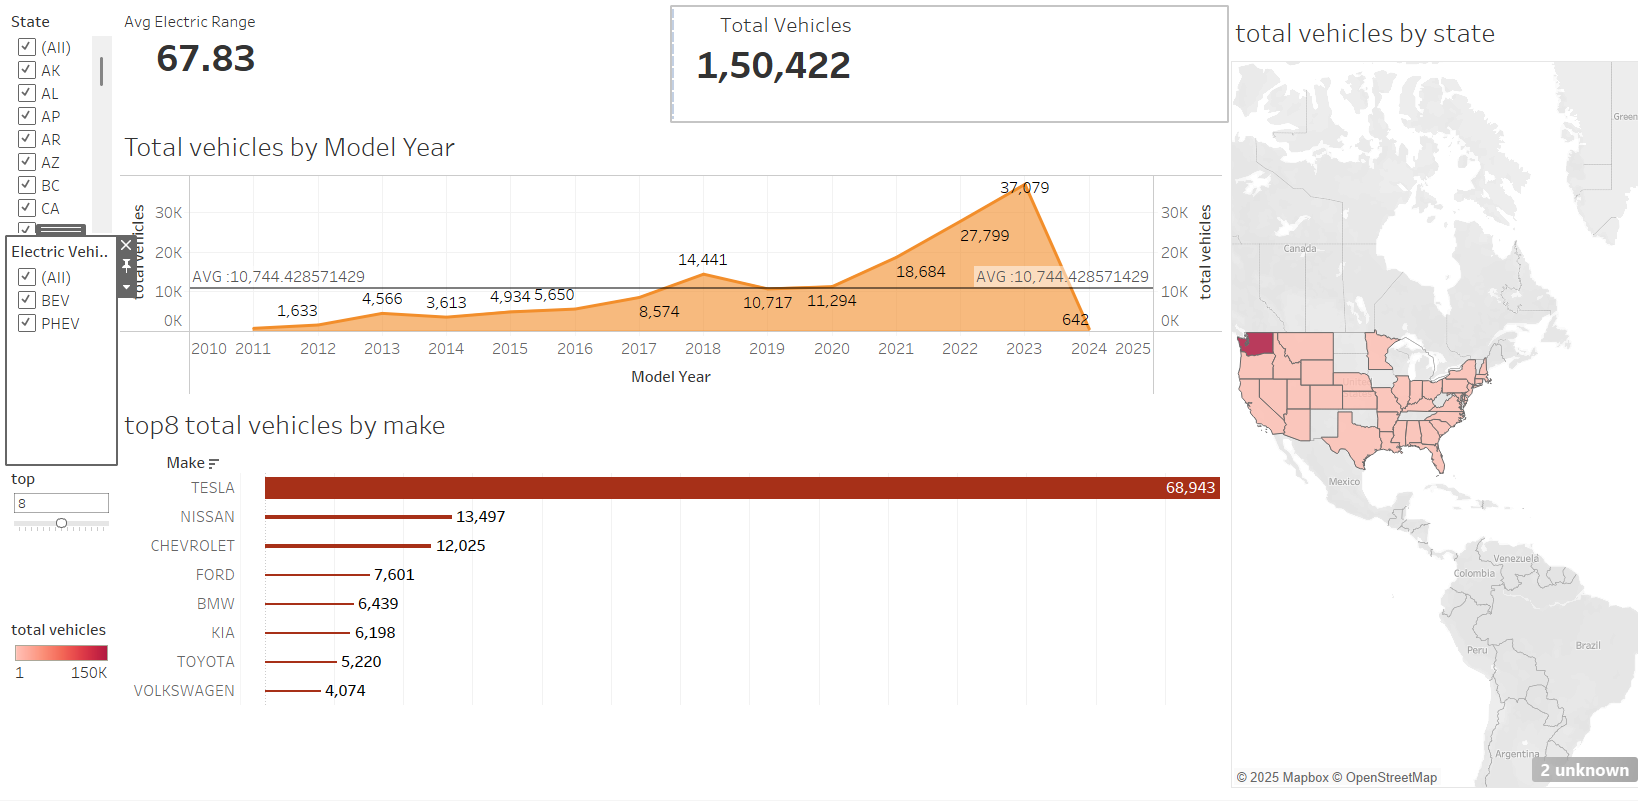

Layout of this report page (visuals, bound fields, positions):
{"tool":"tableau","page":{"name":"Dashboard 1","canvas":[1000,1000],"units":"permille","ordinal":0},"visuals":[{"type":"filter","title":"Top !0 vehicles by make","param":"[federated.1yiy92o1nmgc8s13di7ll1df861s].[none:State:nk]","box":[4.8,10,65.5,287.1]},{"type":"worksheet","title":"AVG","mark":"Automatic","box":[70.3,10,335.3,142.3]},{"type":"worksheet","title":"Total Vehicles","mark":"Automatic","box":[405.6,10,335.3,142.3]},{"type":"worksheet","title":"total vehicles by state","mark":"Automatic","box":[740.9,10,254.3,980]},{"type":"worksheet","title":"Total vehicles by Model Year","mark":"Area","rows":["Calculation_1424826388432564226","Calculation_1424826388432564226"],"cols":["Model Year"],"box":[70.3,152.3,670.6,347.1]},{"type":"filter","title":"Top !0 vehicles by make","param":"[federated.1yiy92o1nmgc8s13di7ll1df861s].[none:Electric Vehicle Type:nk]","box":[4.8,297.1,65.5,283.4]},{"type":"worksheet","title":"Top !0 vehicles by make","mark":"Automatic","rows":["Make"],"cols":["Calculation_1424826388431400960"],"box":[70.3,499.4,670.6,387]},{"type":"parameter","param":"[Parameters].[Parameter 1]","box":[4.8,580.5,65.5,188.5]},{"type":"legend","title":"total vehicles by state","param":"[federated.1yiy92o1nmgc8s13di7ll1df861s].[usr:Calculation_1424826388432564226:qk","box":[4.8,769.1,65.5,206]},{"type":"blank","box":[70.3,886.4,670.6,103.6]}]}

Visuals, with their boxes on the dashboard's canvas, which has no fixed pixel size, in thousandths of its width and height (x1, y1, x2, y2). These are canvas units, not pixel positions in the 1638x801 screenshot, which may show the page scaled, cropped or inside an application window:
"Top !0 vehicles by make" filter: <box>5,10,70,297</box>
"AVG" worksheet: <box>70,10,406,152</box>
"Total Vehicles" worksheet: <box>406,10,741,152</box>
"total vehicles by state" worksheet: <box>741,10,995,990</box>
"Total vehicles by Model Year" worksheet (Area marks): <box>70,152,741,499</box>
"Top !0 vehicles by make" filter: <box>5,297,70,580</box>
"Top !0 vehicles by make" worksheet: <box>70,499,741,886</box>
parameter: <box>5,580,70,769</box>
"total vehicles by state" legend: <box>5,769,70,975</box>
blank: <box>70,886,741,990</box>
